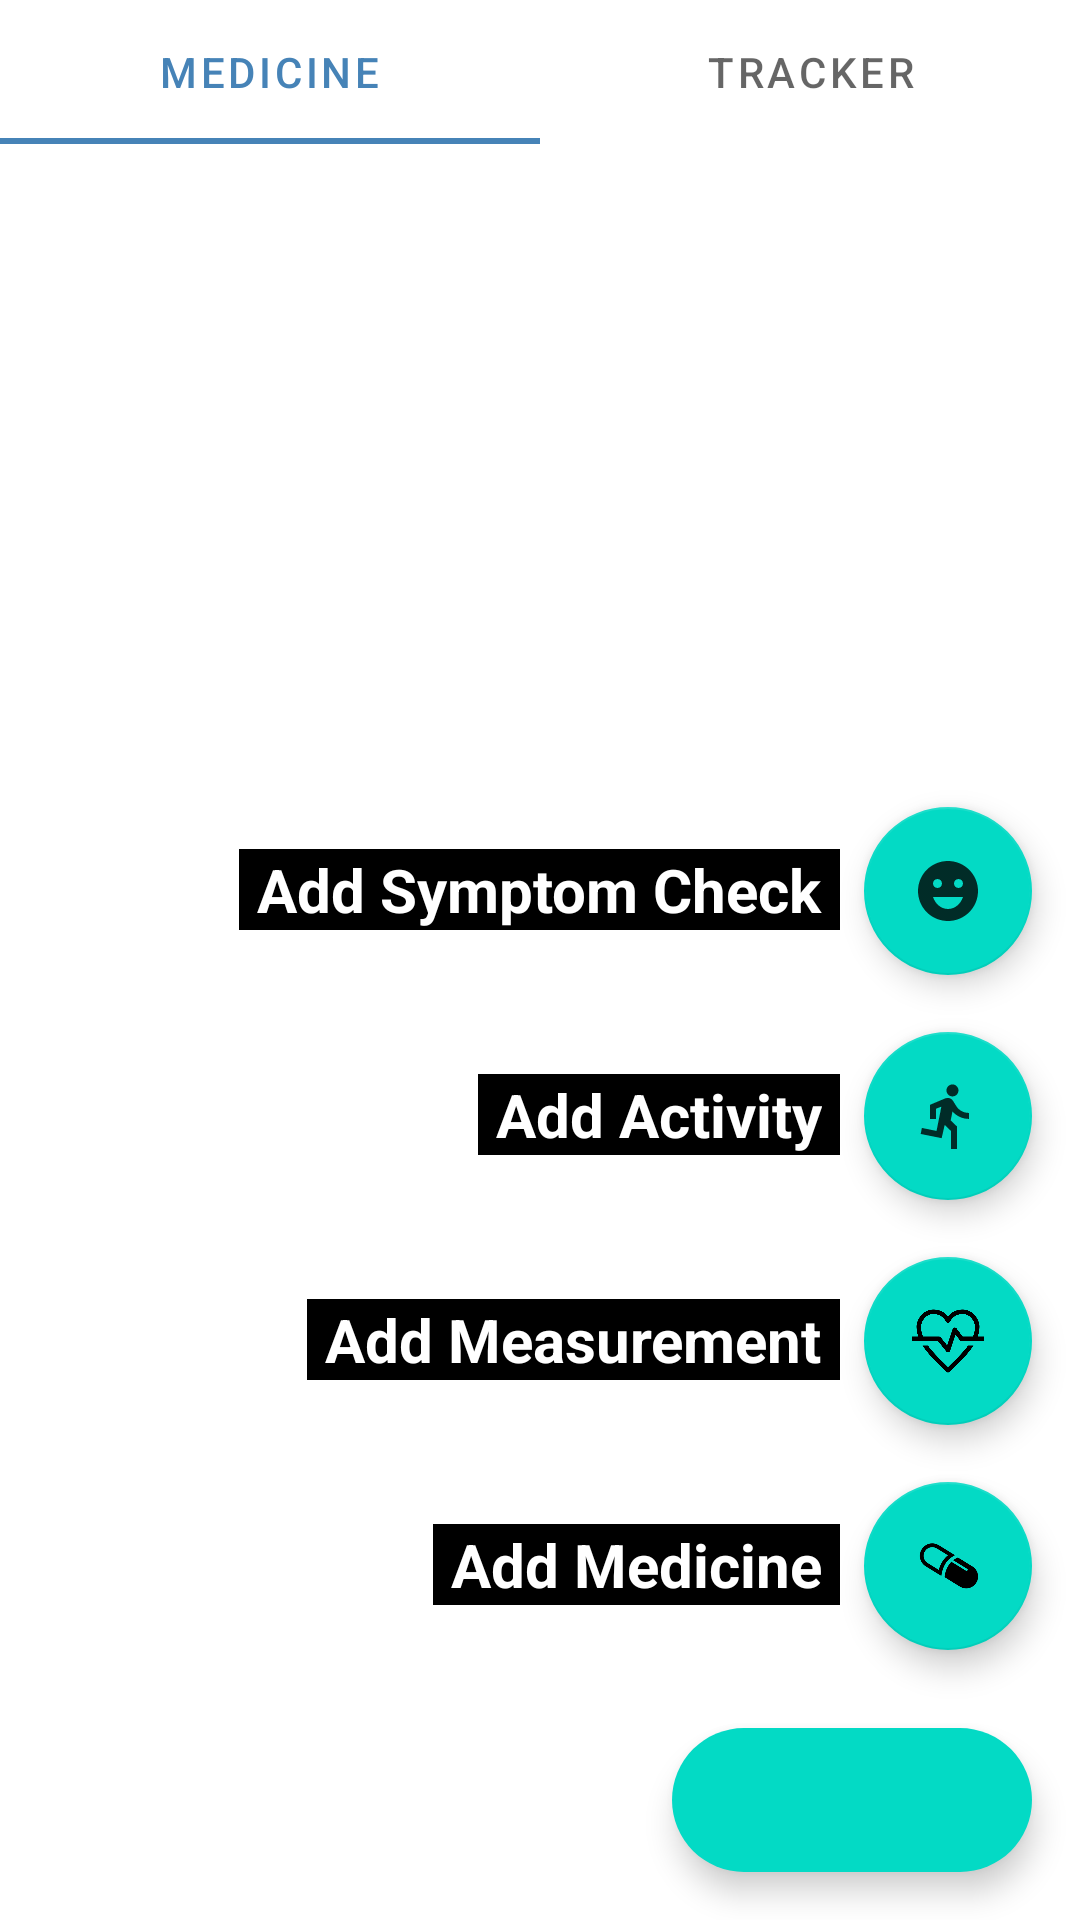

Icon click points for this 1080px x 1920px phone screenshot, format (x=x, y=y):
drug: (x=948, y=1566)
